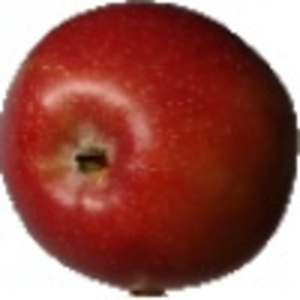maçã braeburn: (1, 1, 298, 289)
